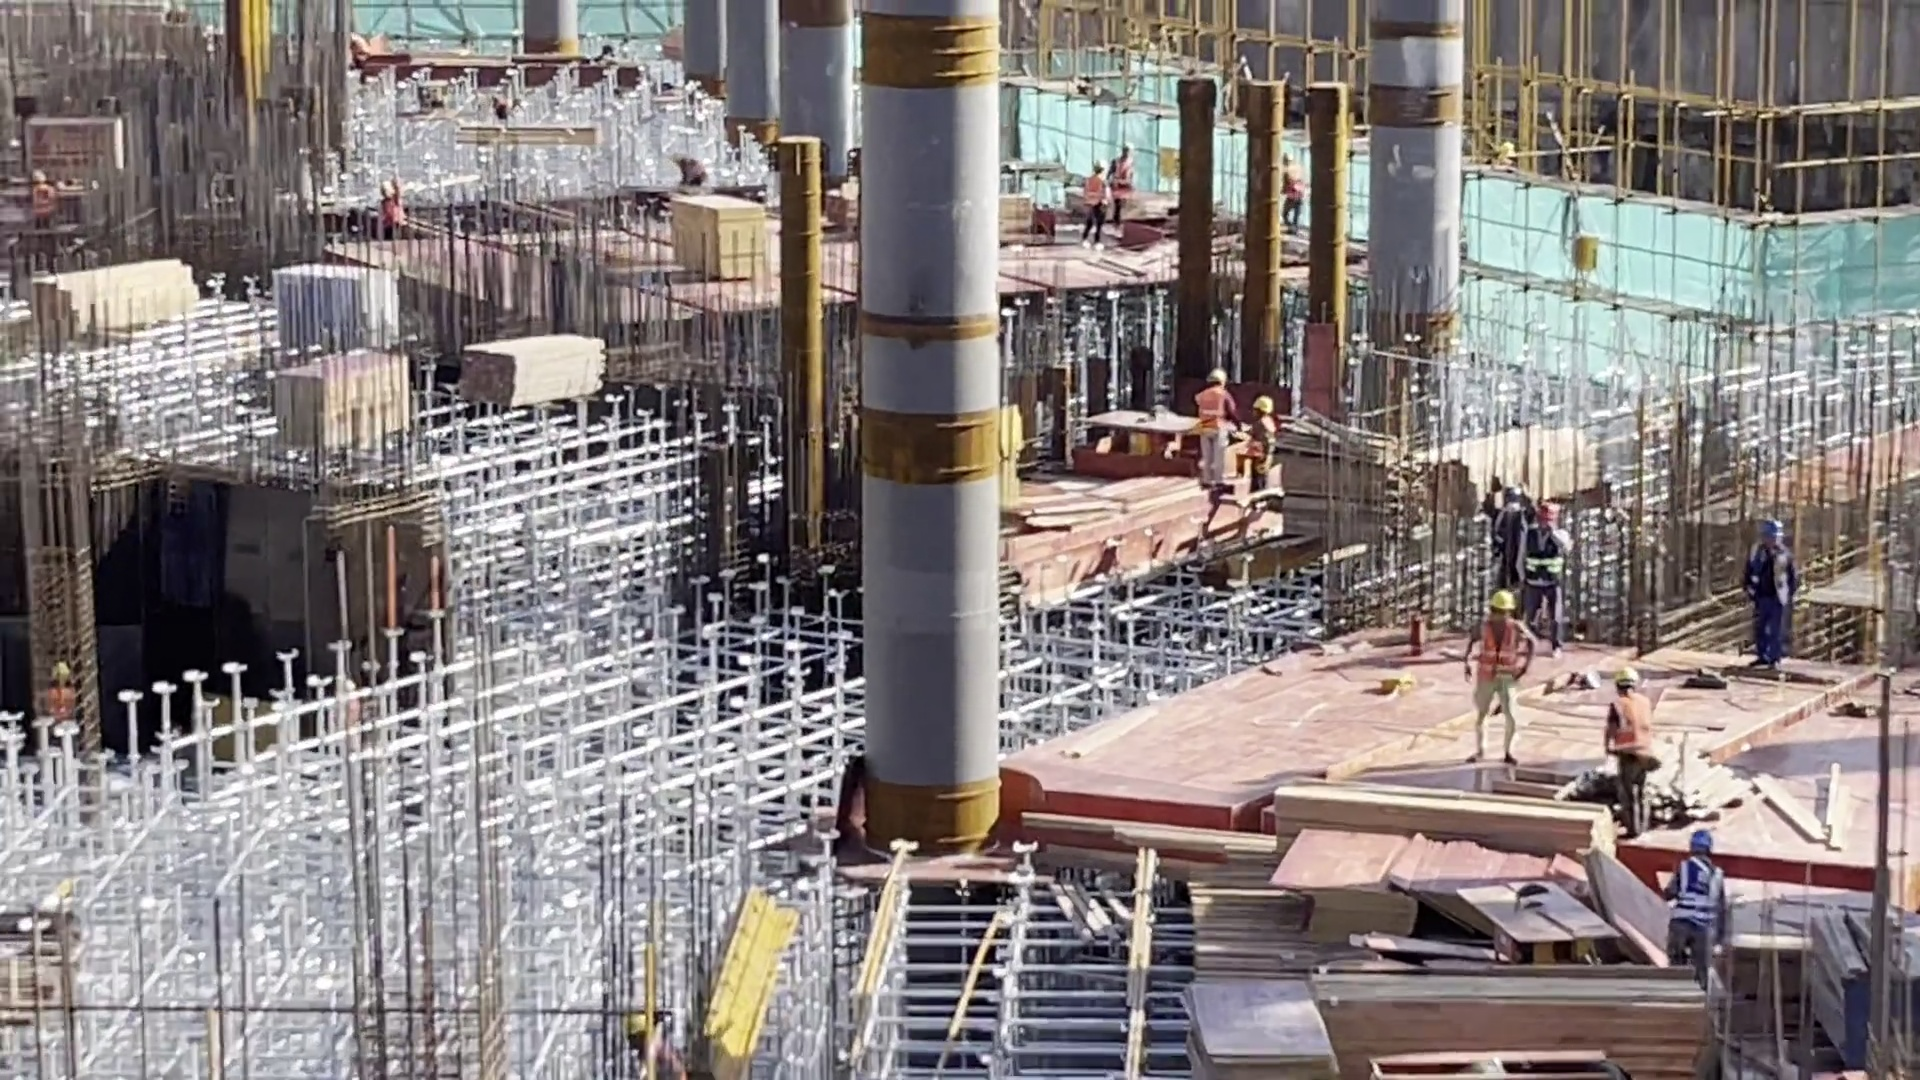helmet: (1478, 584, 1520, 625), (1609, 663, 1645, 701), (1754, 516, 1789, 547), (1689, 820, 1717, 859), (1497, 485, 1527, 515), (1537, 499, 1563, 527), (1083, 158, 1108, 186), (1199, 361, 1219, 391), (1110, 141, 1136, 163), (1250, 398, 1271, 422), (1278, 151, 1303, 164)
person: (1469, 587, 1537, 765), (1662, 823, 1730, 985), (1597, 666, 1658, 835), (1735, 523, 1801, 666), (1523, 493, 1573, 658), (1196, 365, 1239, 488), (1487, 475, 1530, 591), (1241, 395, 1279, 495), (31, 655, 78, 733), (28, 168, 74, 241), (1108, 140, 1144, 221), (1079, 161, 1112, 245), (370, 167, 406, 240), (1278, 149, 1304, 235)
vest: (1477, 615, 1519, 690), (1672, 858, 1719, 924), (1754, 558, 1797, 611), (1611, 704, 1649, 759), (1523, 530, 1558, 587), (1200, 391, 1230, 445), (1084, 176, 1106, 216), (1281, 171, 1299, 210), (1114, 163, 1133, 201)
